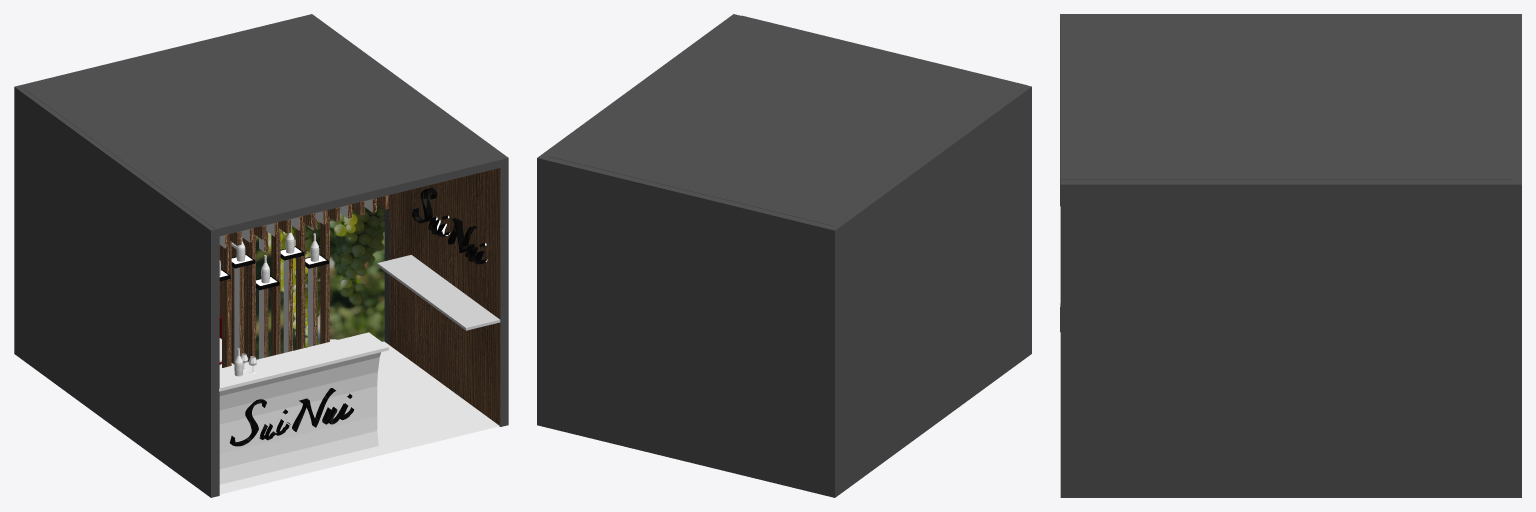
Rendered from vinitalyGLB.glb.
3 views of the same model, side by side, from view 1: azimuth 30°, elevation 25°; view 2: azimuth 150°, elevation 25°; view 3: azimuth 270°, elevation 25° (orthographic). The views are drawn at different scales.
Visible parts, largest first — view 1: Cube, Tetto, Bancone, Cube.002, Pavimento, Plane, Livello_1, Livello_1.001; view 2: Cube, Tetto; view 3: Cube, Tetto.
Boxes of the visible parts, x1=… form: Cube: x1=14, y1=14, x2=508, y2=497; Tetto: x1=23, y1=19, x2=500, y2=236; Bancone: x1=219, y1=332, x2=388, y2=484; Cube.002: x1=219, y1=195, x2=388, y2=367; Pavimento: x1=219, y1=339, x2=499, y2=494; Plane: x1=377, y1=255, x2=500, y2=330; Livello_1: x1=230, y1=388, x2=354, y2=446; Livello_1.001: x1=412, y1=187, x2=487, y2=264; Cube: x1=537, y1=14, x2=1031, y2=497; Tetto: x1=549, y1=15, x2=1026, y2=226; Cube: x1=1060, y1=14, x2=1521, y2=497; Tetto: x1=1060, y1=16, x2=1511, y2=188.
Bounding box in the file's own units: 3.5 × 3.1 × 4.01.
Materials: 28 (5 with a texture image).
